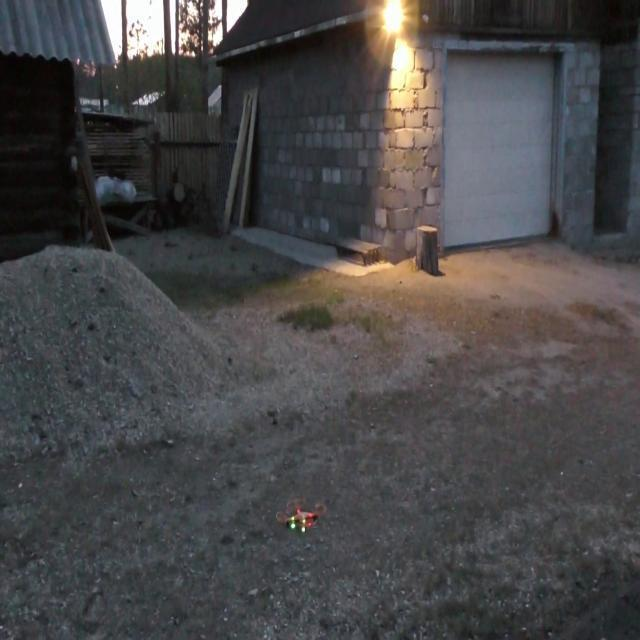Drons: (272, 498, 328, 534)
